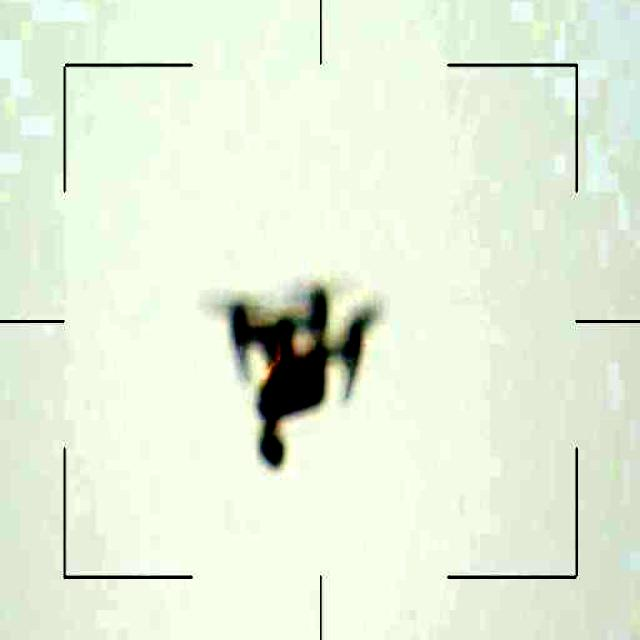bird: (220, 279, 371, 474)
